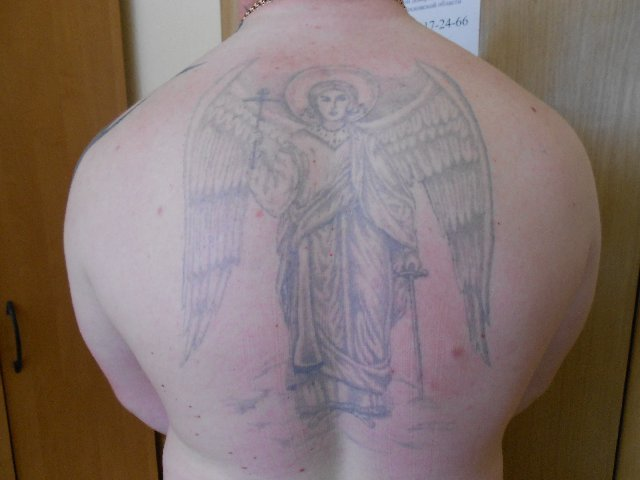tatu1_angel: (184, 58, 506, 431)
